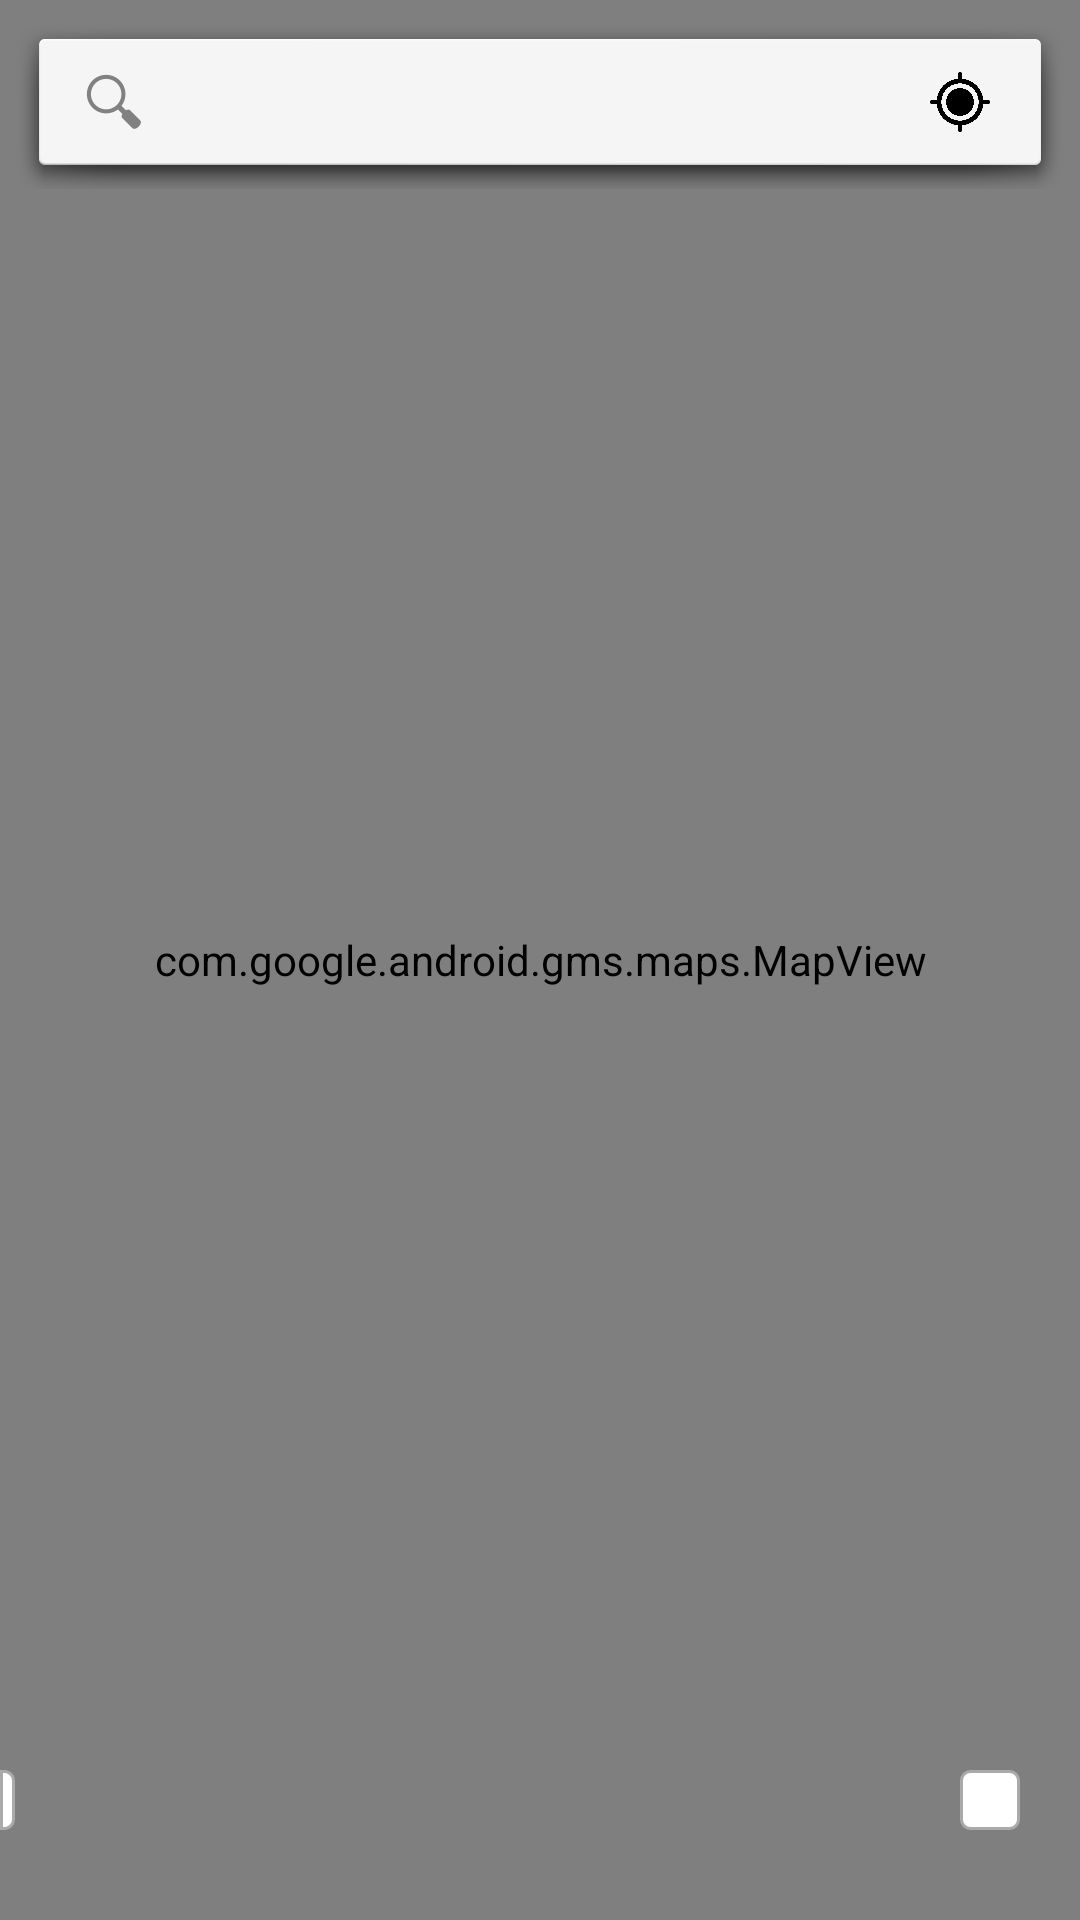

Named icons in this screenshot (1080 × 1920) and their centers, point (x, y):
mylocation: point (960, 102)
